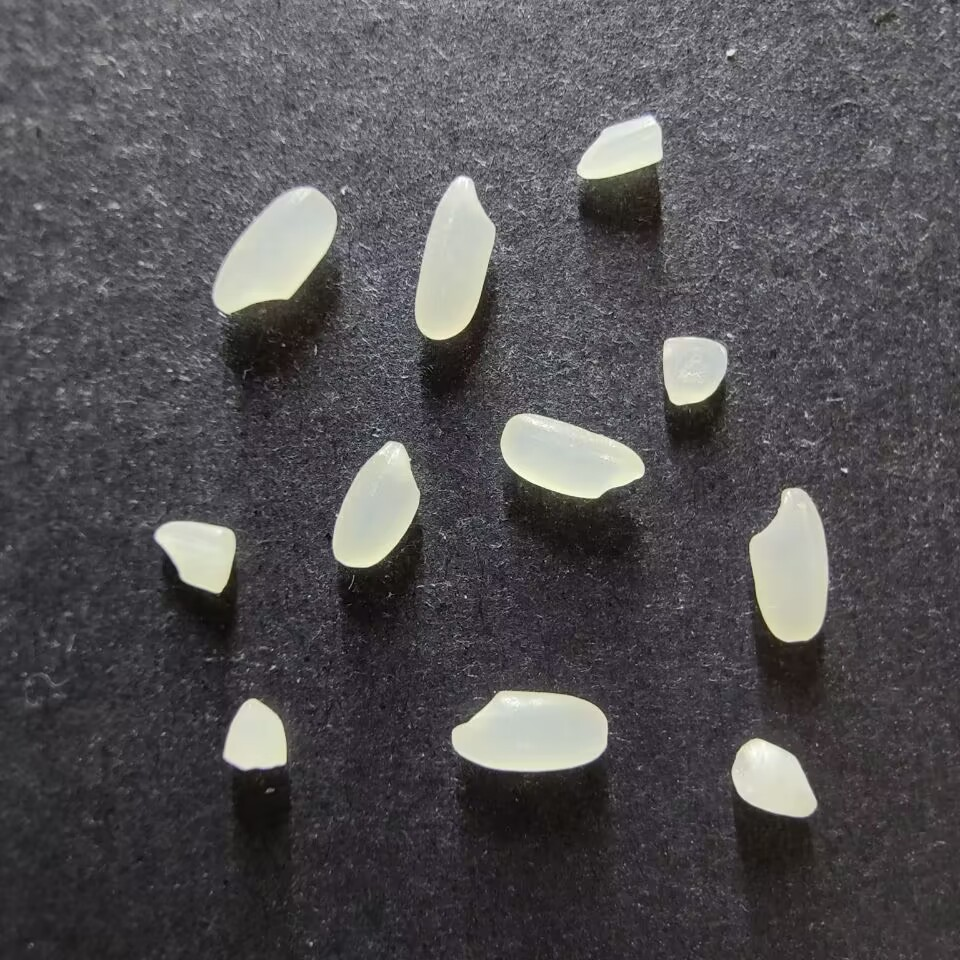broken: (730, 737, 817, 818), (153, 519, 236, 595), (575, 115, 664, 180), (222, 697, 288, 772), (660, 335, 727, 406)
rice: (211, 186, 337, 314), (413, 176, 496, 341), (450, 689, 609, 773), (748, 486, 829, 643), (499, 412, 645, 499), (331, 440, 420, 569)
